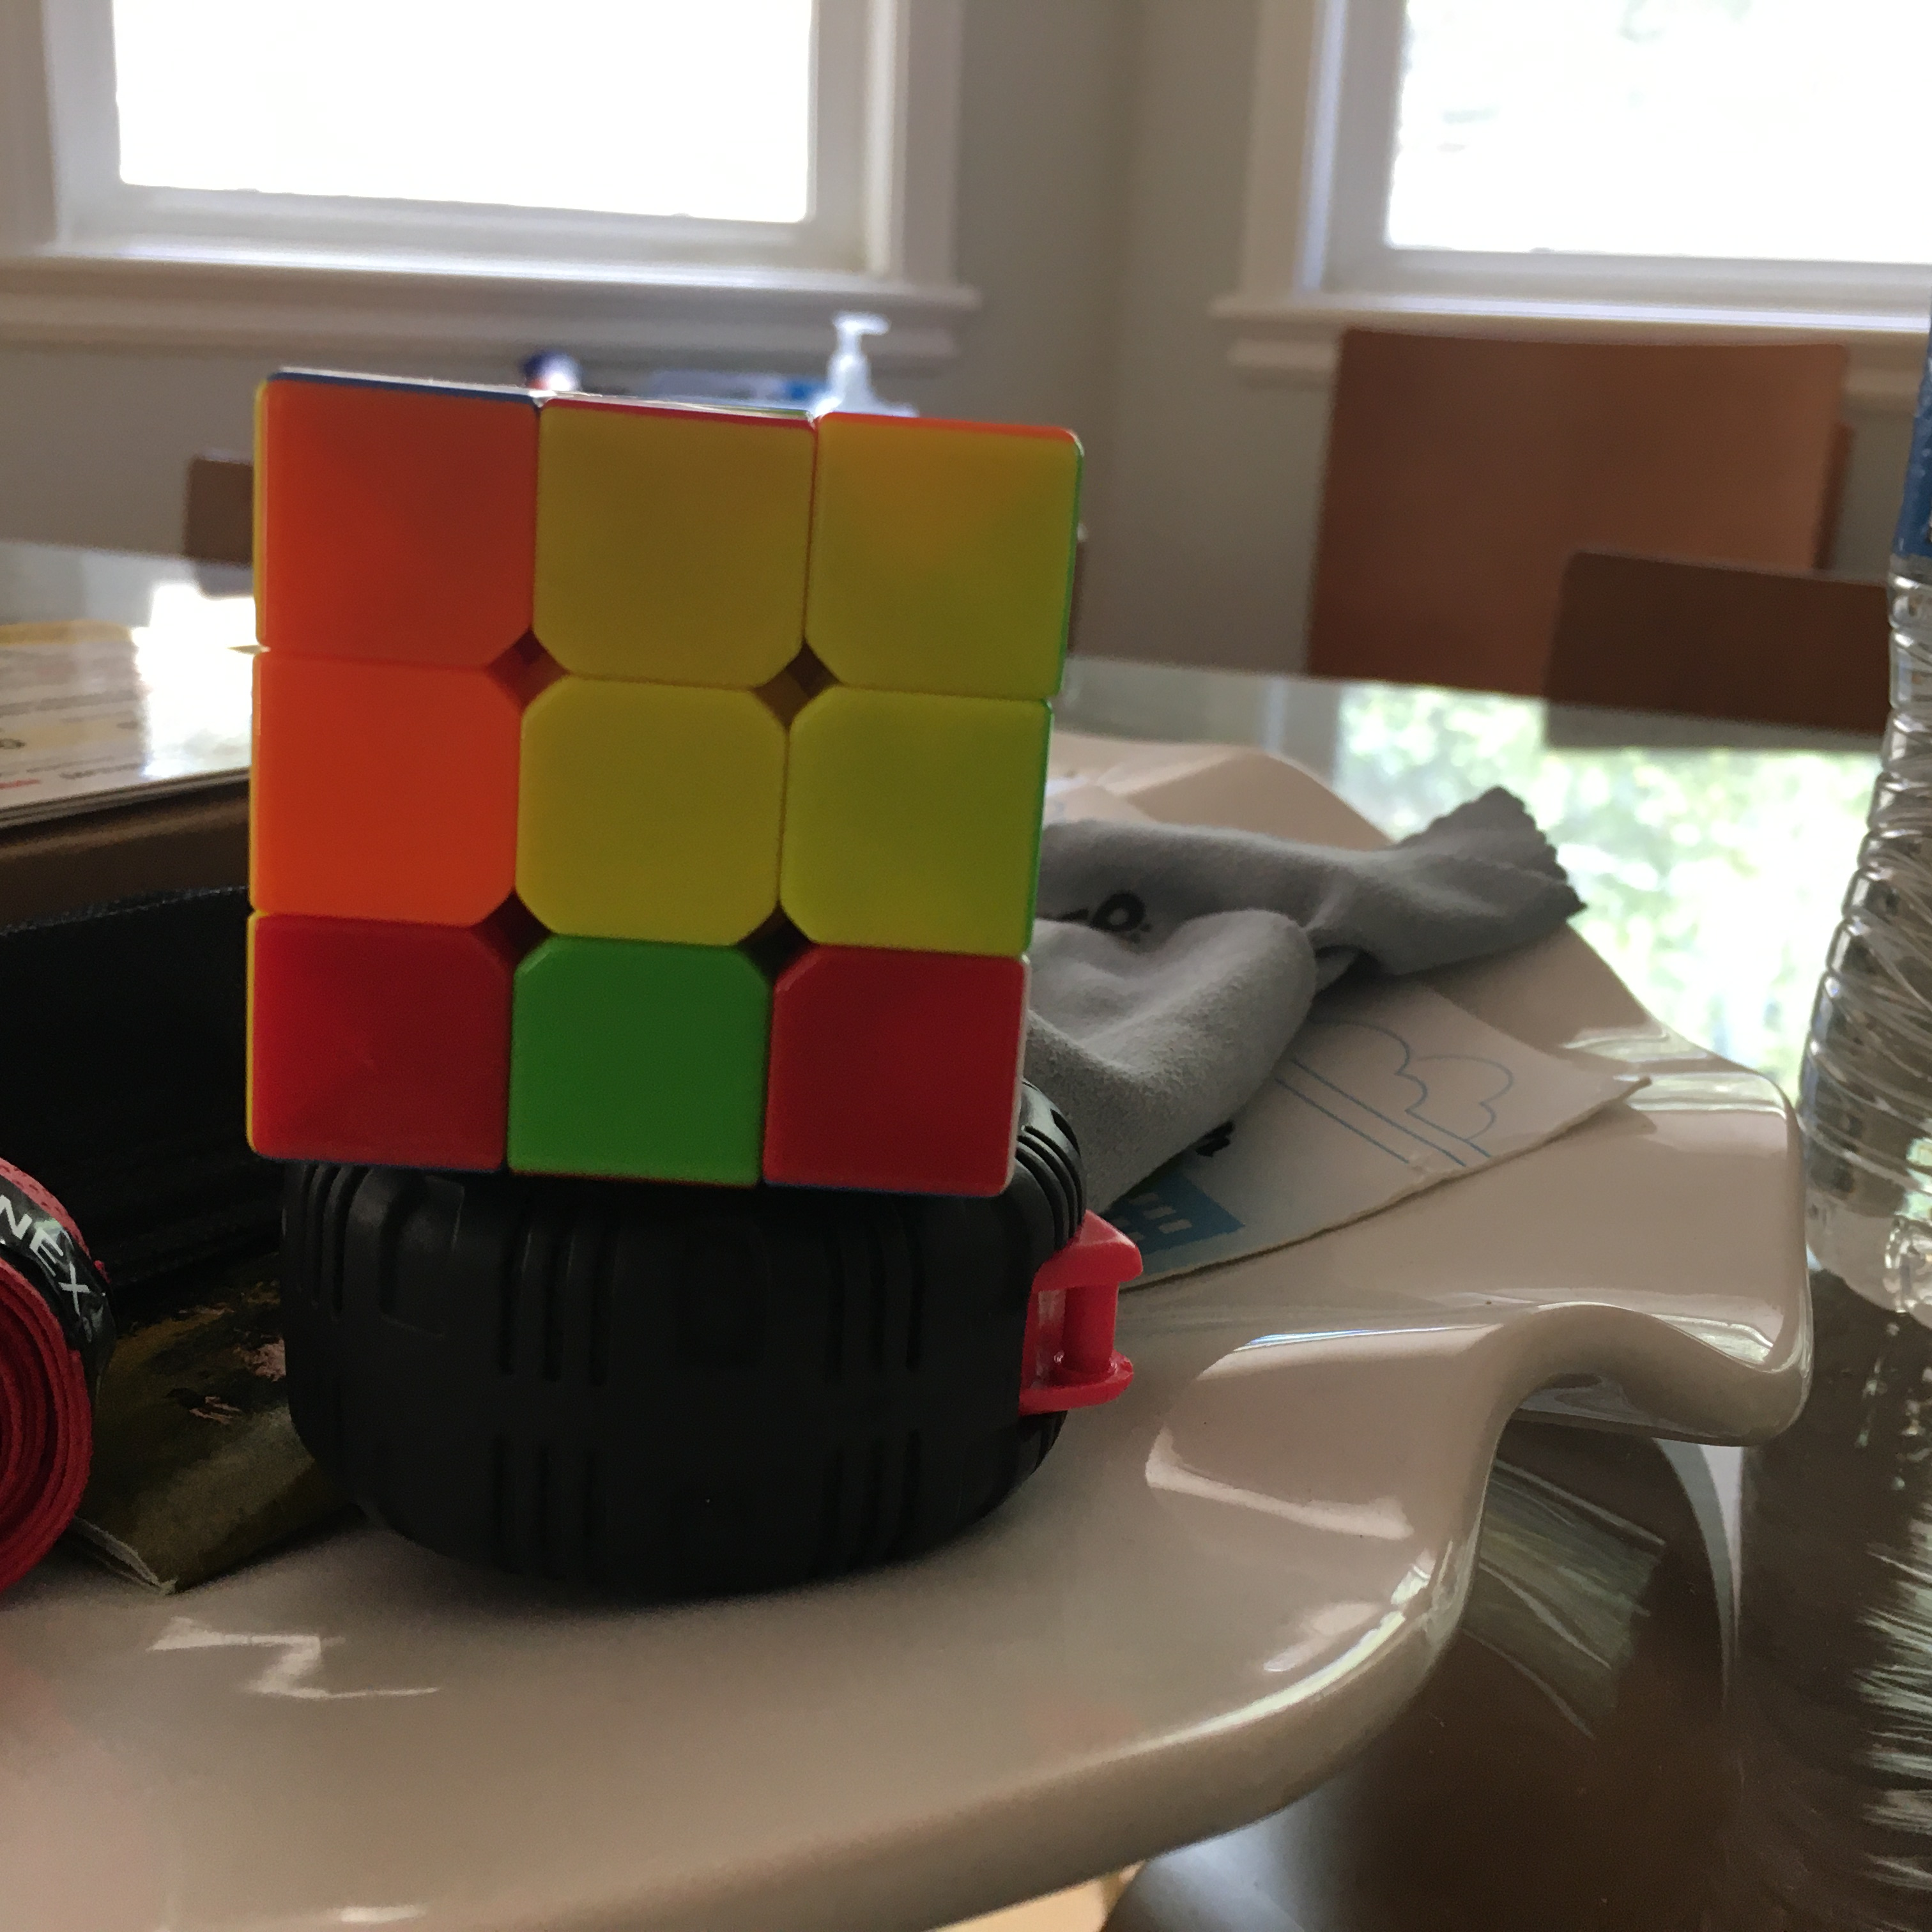face: (247, 369, 1083, 1197)
